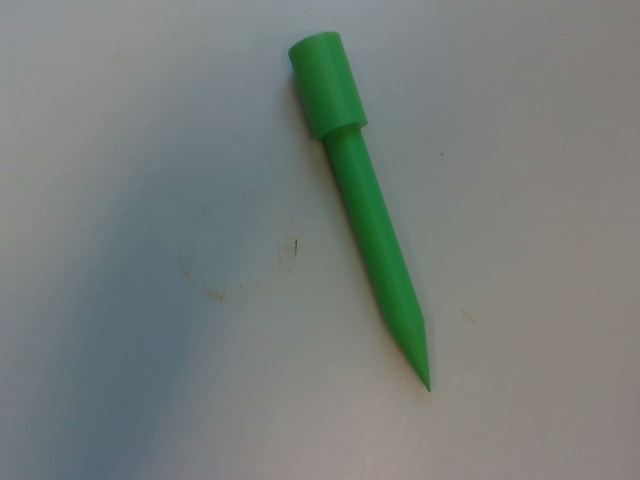Probe: (282, 21, 440, 402)
